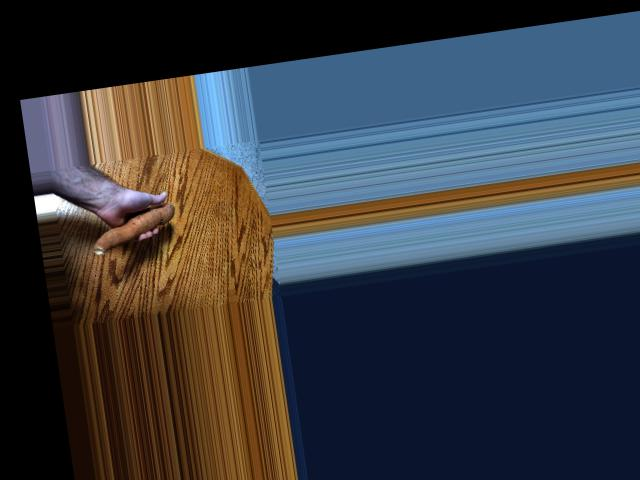sweet_potato: (86, 201, 179, 255)
